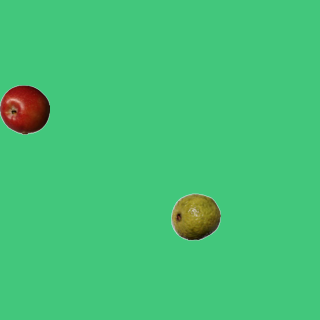Apple Braeburn: (0, 84, 49, 134)
Guava: (170, 191, 220, 241)
